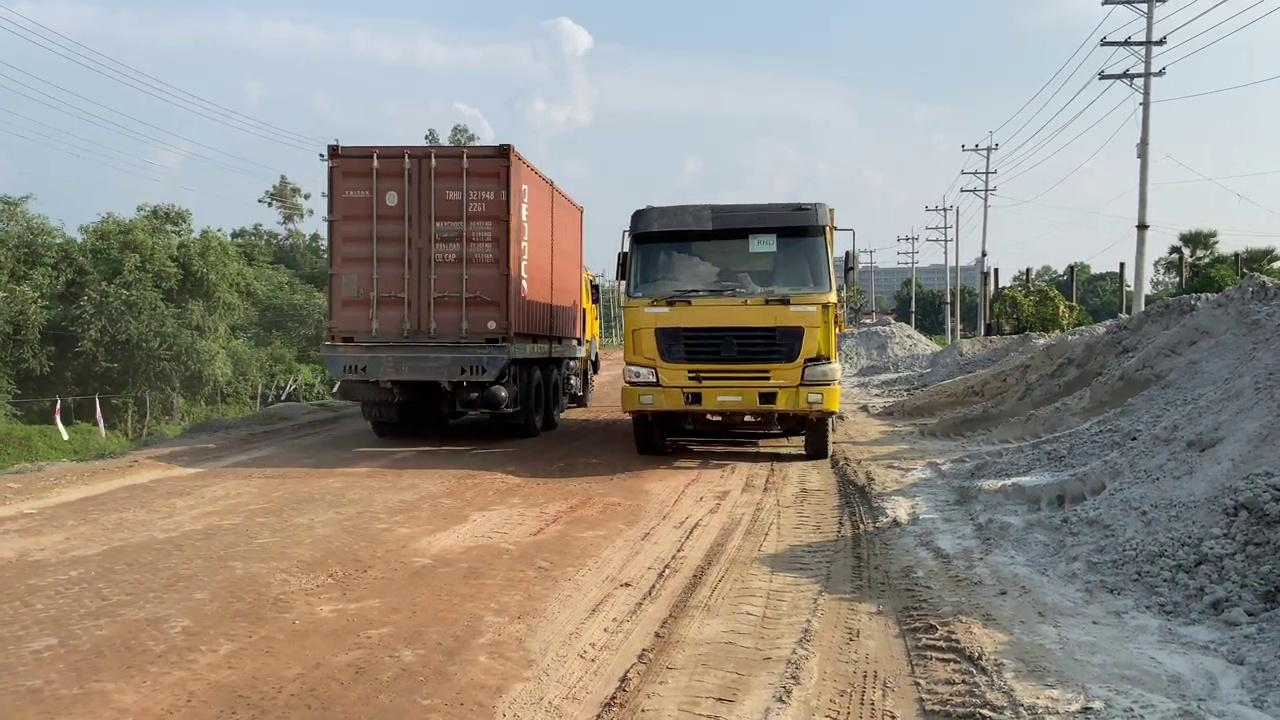Garbage: (834, 280, 1278, 718)
Tree: (318, 140, 597, 438), (615, 201, 857, 459)
